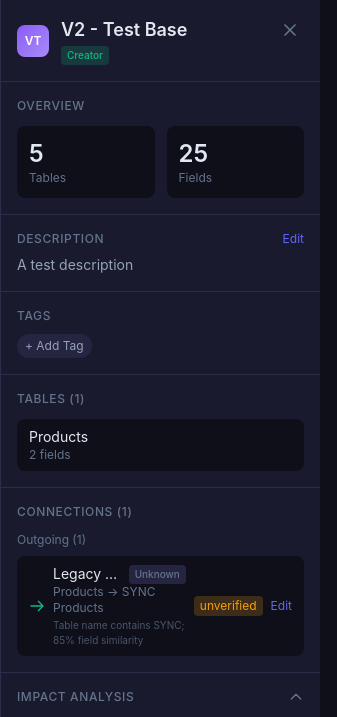
Test: BaseDetailPanel › opens edit mode when Edit button is clicked
Step 1. Click the 1st button "Edit" → [293, 239], box [283,231,304,247]
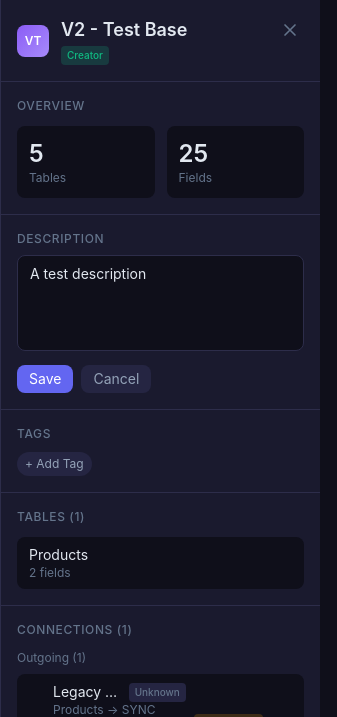
expect the text box with placeholder "Add a description..." is shown: met, box [17,255,304,351]
expect the button "Save" is shown: met, box [17,365,73,393]
expect the button "Cancel" is shown: met, box [81,365,151,393]
